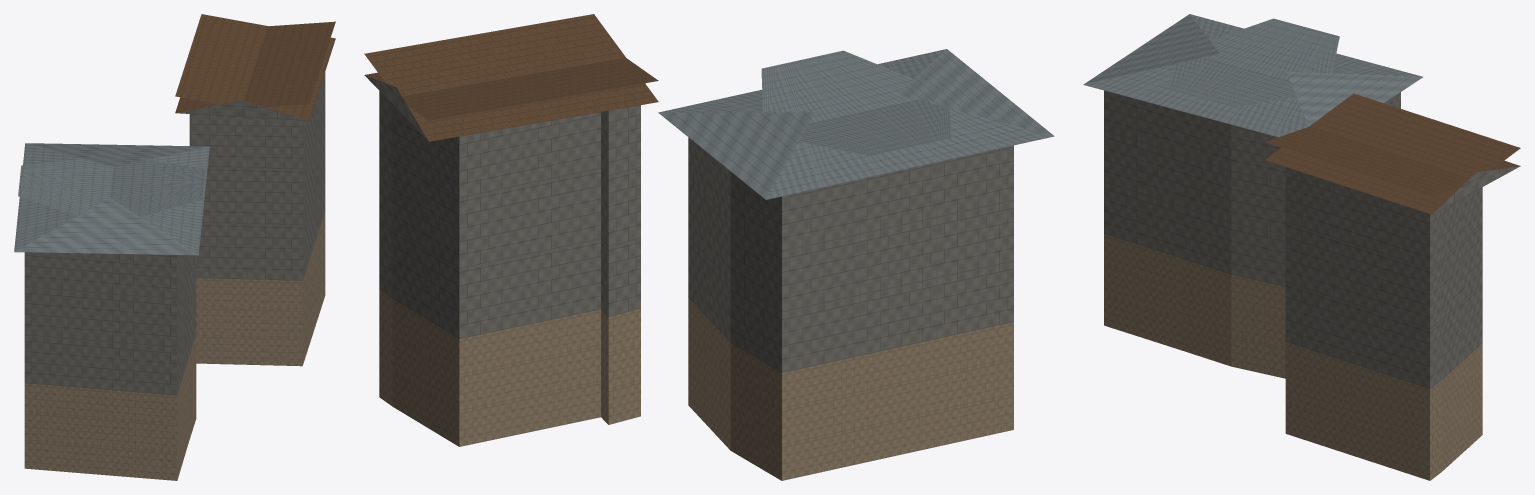
The model's file is bld_c32_-41_446.gltf.
The picture shows the model from 3 angles, left to right: view 1: azimuth 30°, elevation 25°; view 2: azimuth 150°, elevation 25°; view 3: azimuth 270°, elevation 25°; orthographic projection. The views are drawn at different scales.
Parts seen in each view (by area): view 1: bld_c32_-41_446; view 2: bld_c32_-41_446; view 3: bld_c32_-41_446.
Part boxes in pixels (bbox=[...]): bld_c32_-41_446: bbox=[14, 14, 335, 480]; bld_c32_-41_446: bbox=[364, 14, 1054, 480]; bld_c32_-41_446: bbox=[1083, 14, 1520, 480].
Size of the model in its own units: 27.11 by 16.2 by 22.03.
5 materials, 5 textured.
